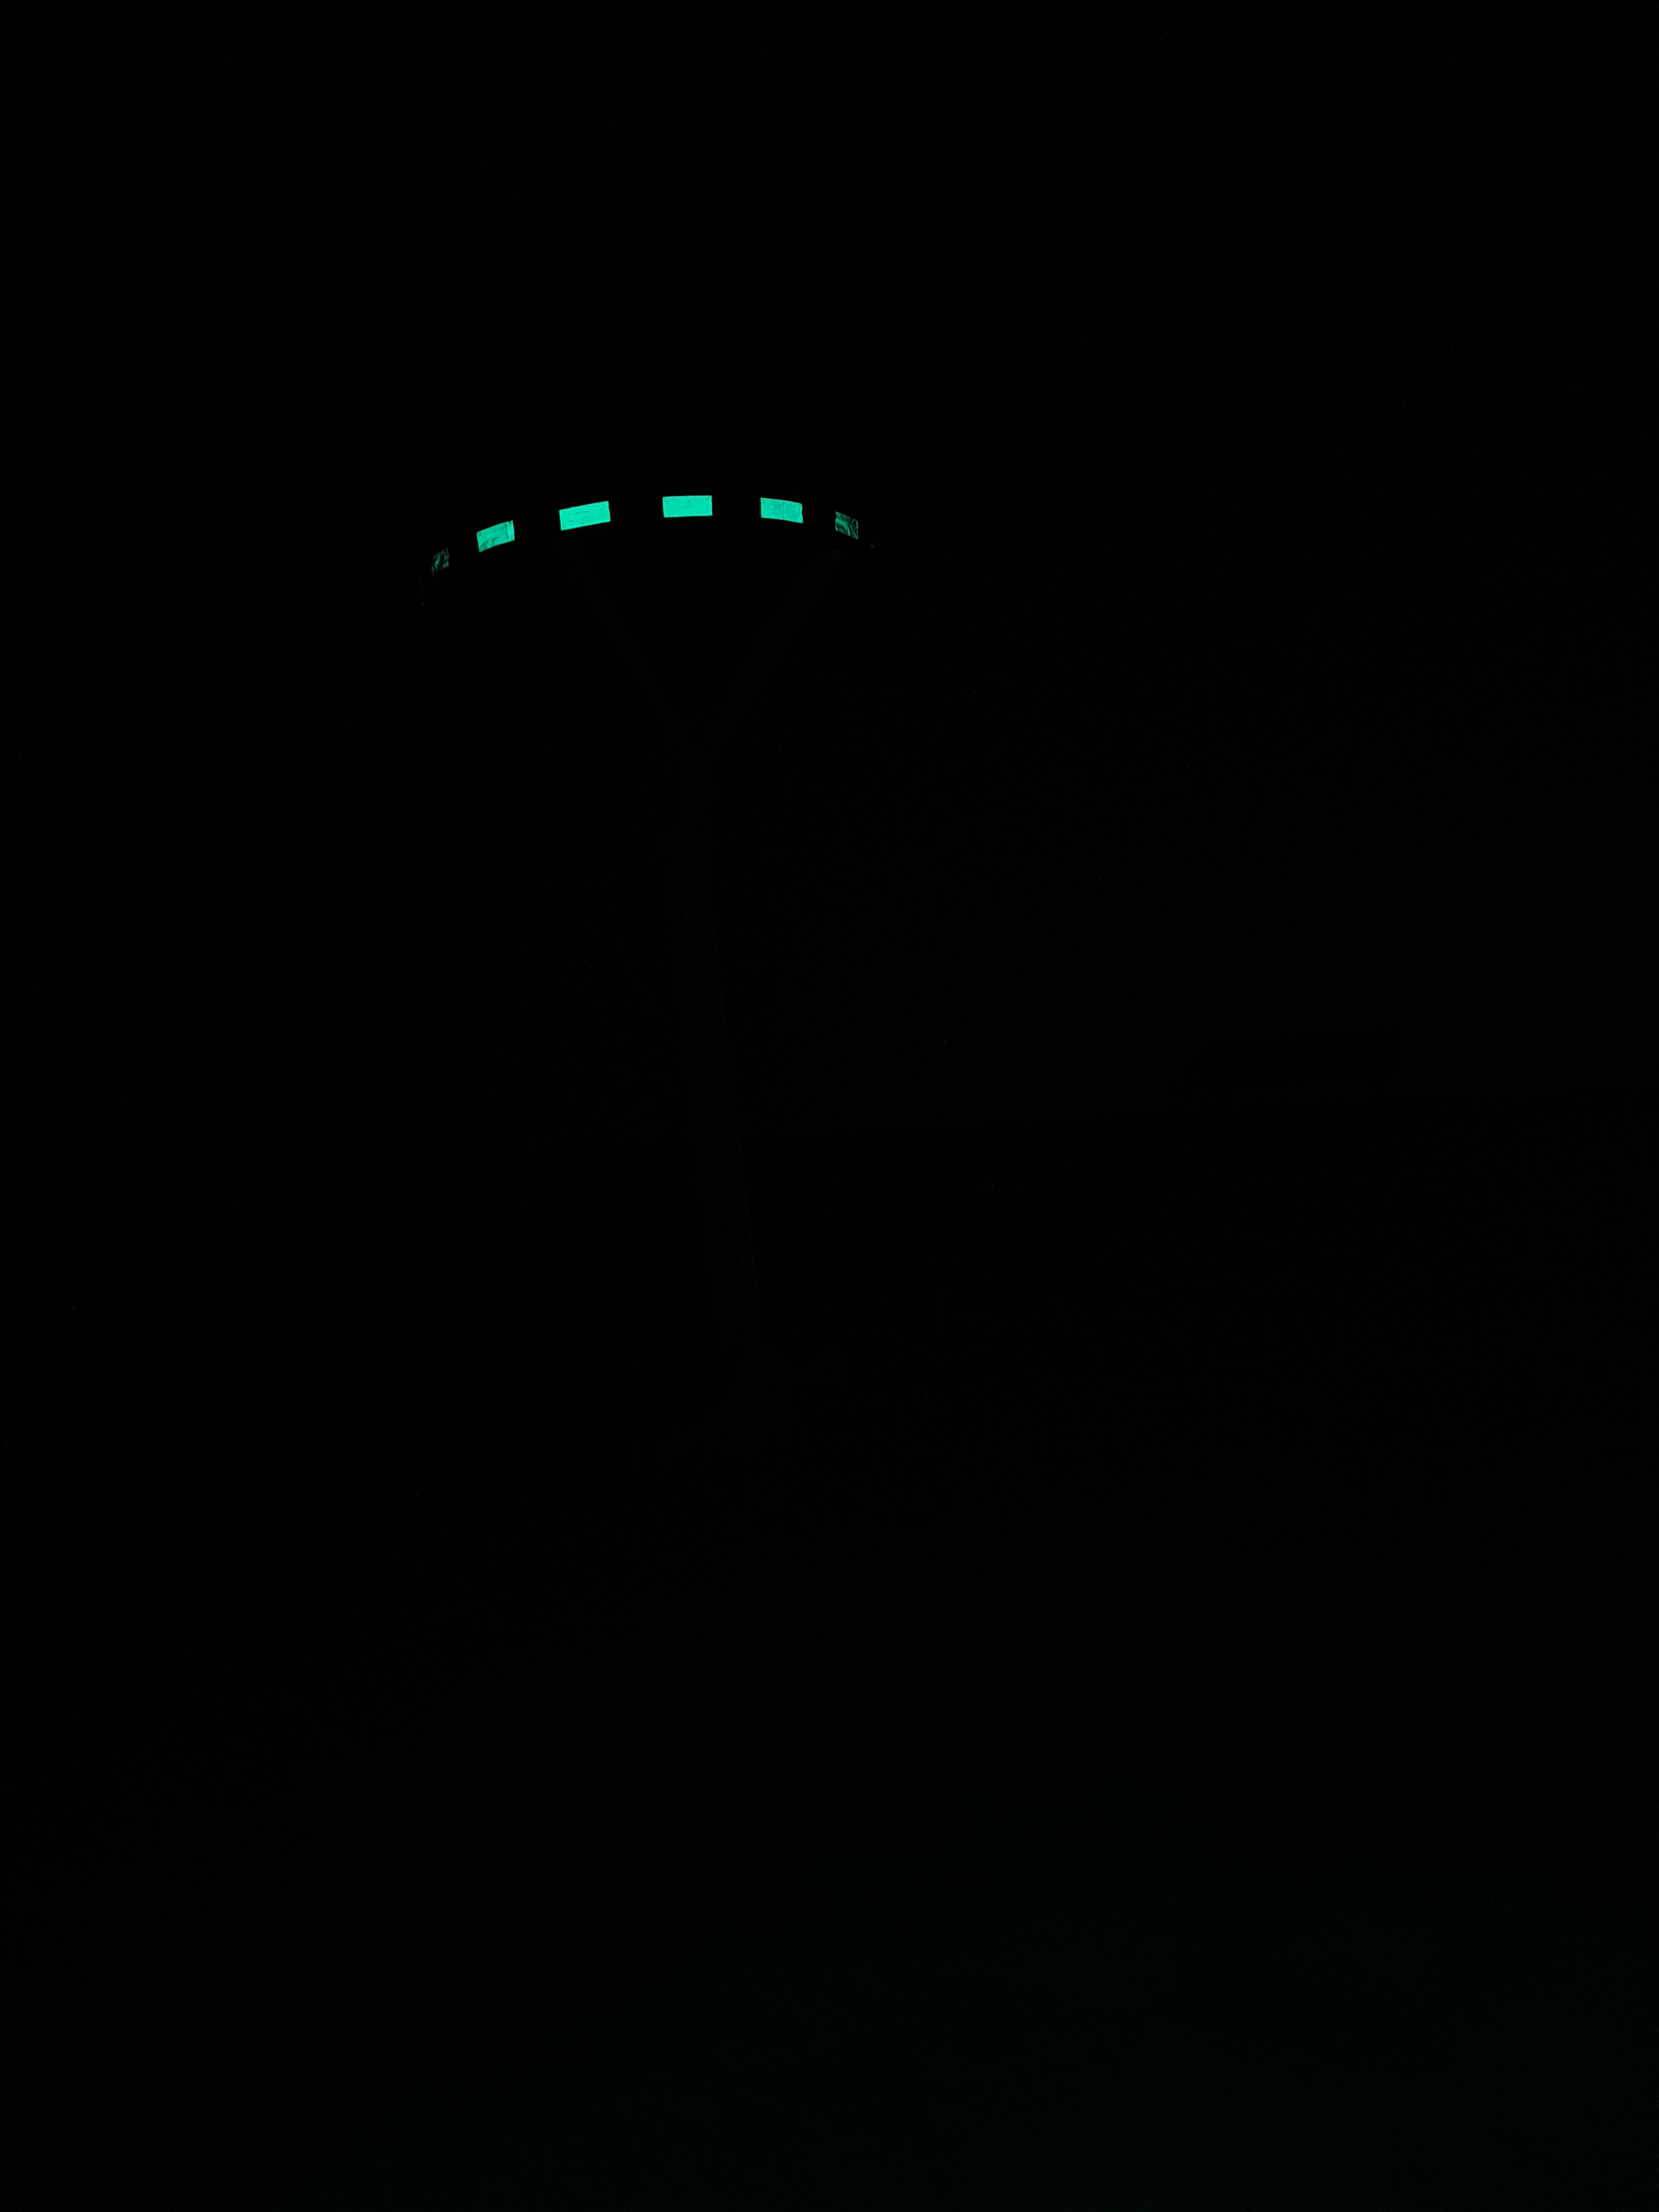hoop: (429, 489, 861, 573)
